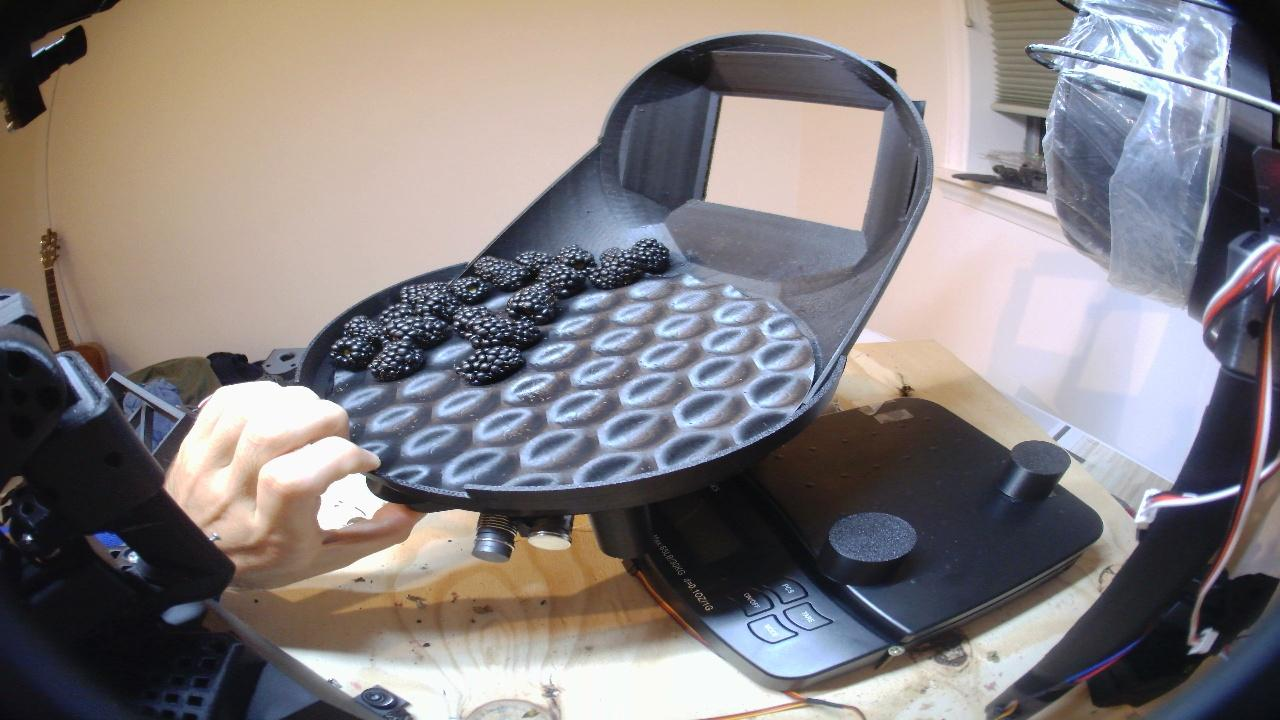berry: (455, 346, 524, 385), (369, 340, 425, 380), (507, 282, 560, 324), (470, 320, 542, 349), (385, 316, 450, 348), (474, 256, 532, 290), (330, 335, 379, 369), (537, 264, 585, 297), (589, 261, 642, 288), (414, 290, 460, 321), (630, 238, 669, 272), (451, 306, 495, 335), (449, 276, 493, 304), (399, 282, 450, 303), (555, 245, 596, 270), (344, 316, 382, 342), (377, 303, 420, 323), (599, 248, 638, 267), (515, 251, 552, 268)
